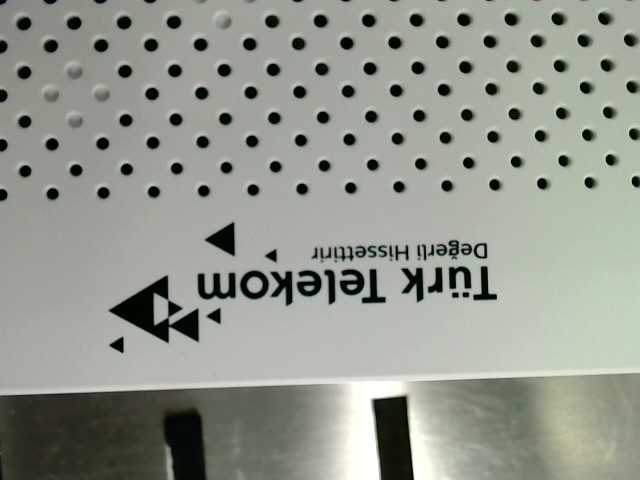AQ_TURKTelekom: (92, 219, 536, 363)
